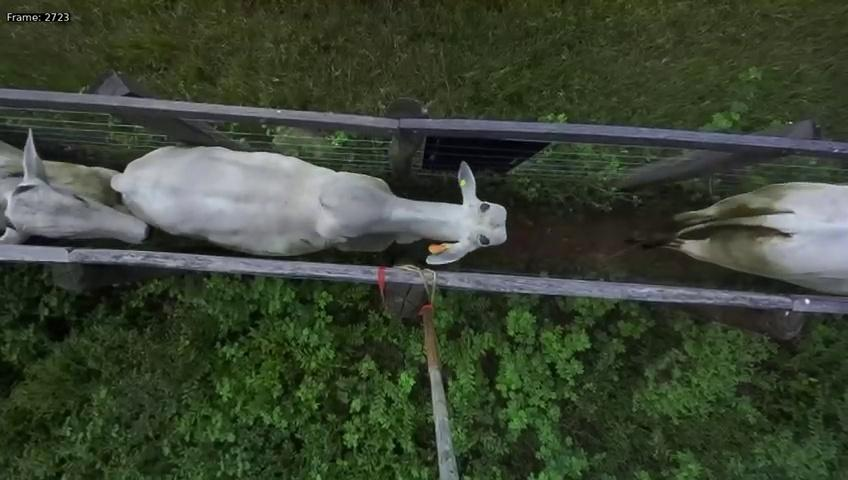cattle: (108, 125, 509, 265)
